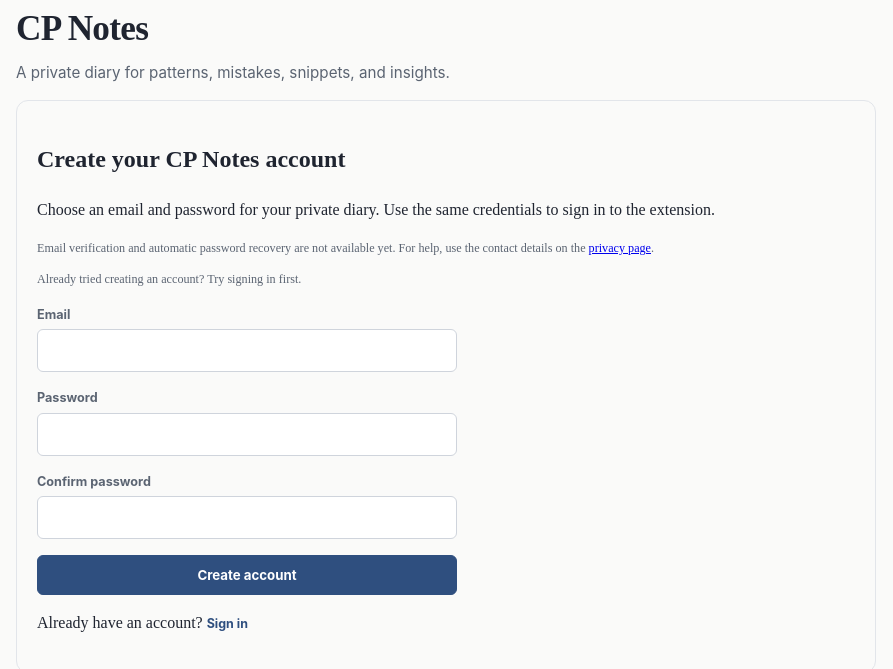
Test: keeps confirmed creation separate from a subsequent failed login
expect the password field labelled "Confirm password" is shown: met, box [37, 496, 457, 539]
In the field labelled "Email": (247, 351) [37, 329, 457, 372], type "tester@example.com"
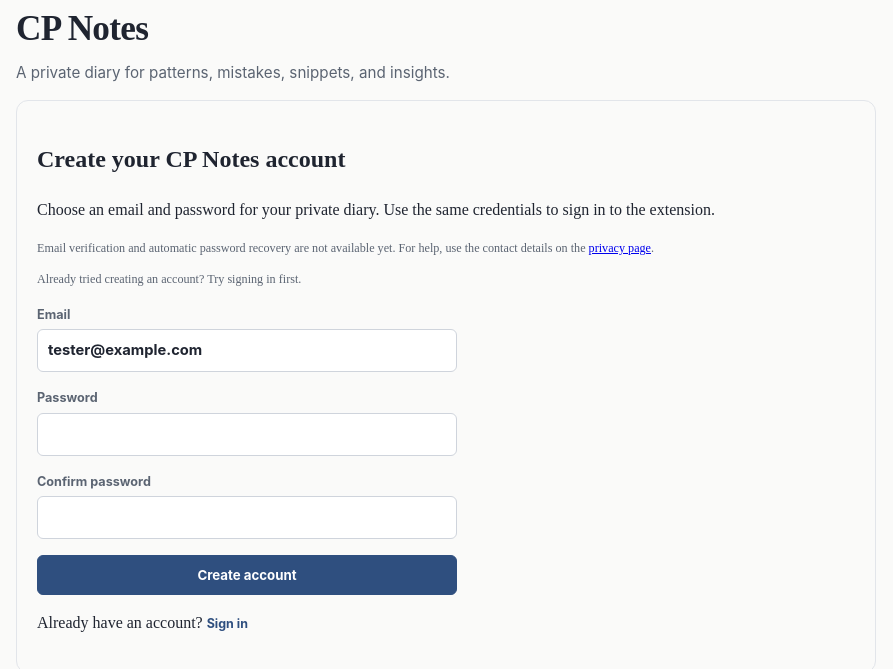
In the password field labelled "Password": (247, 434) [37, 413, 457, 456], type "a long password"
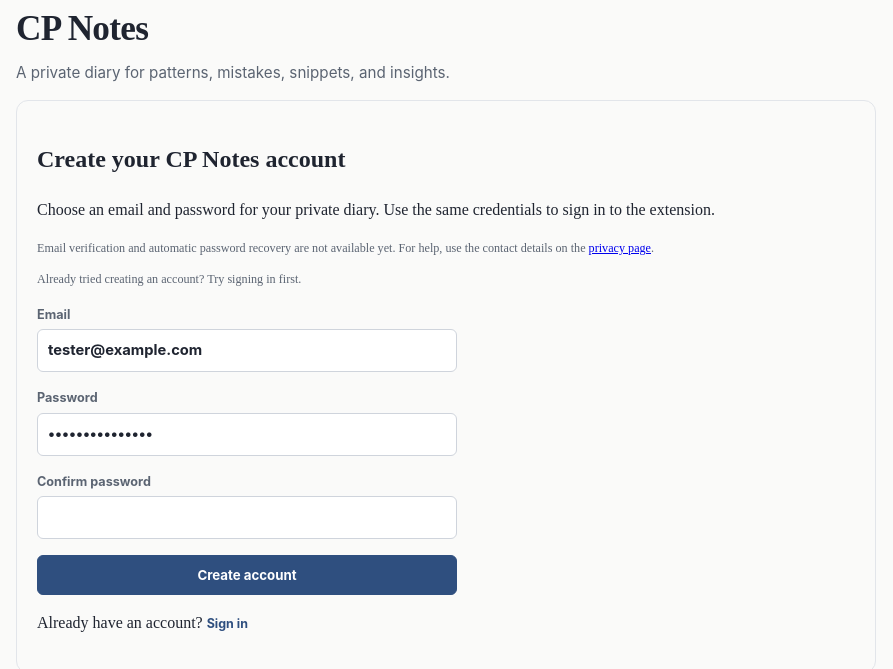
In the password field labelled "Confirm password": (247, 518) [37, 496, 457, 539], type "a long password"
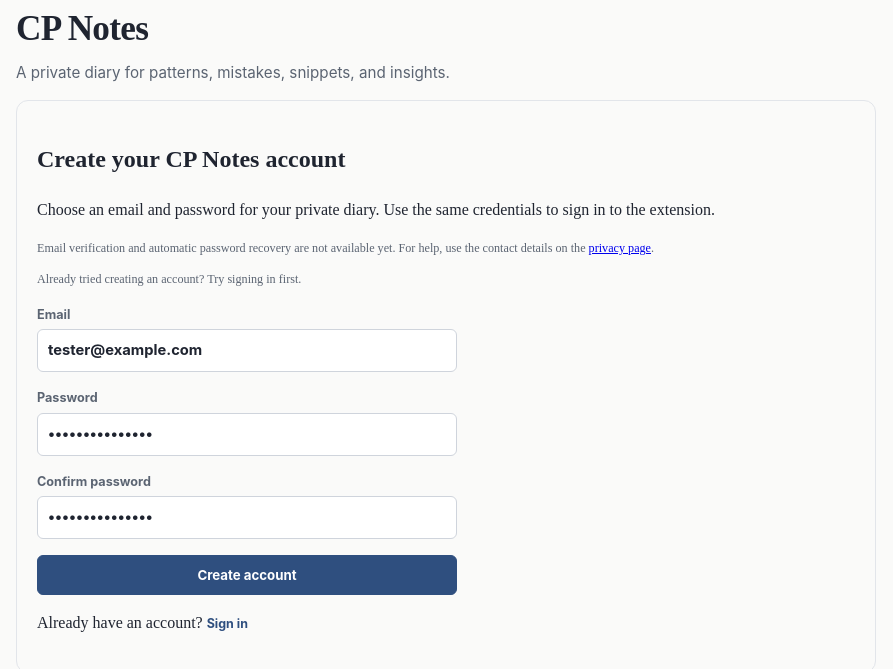
Submit the form "Create account", box [37, 305, 457, 596]
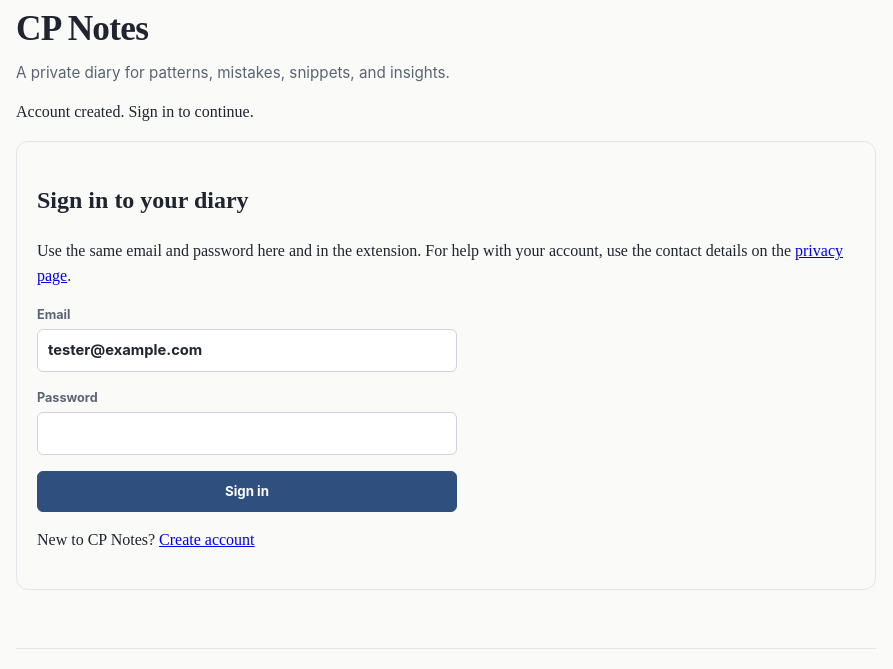
expect the button "Sign in" is shown: met, box [37, 471, 457, 512]
In the password field labelled "Password": (247, 434) [37, 412, 457, 455], type "a long password"
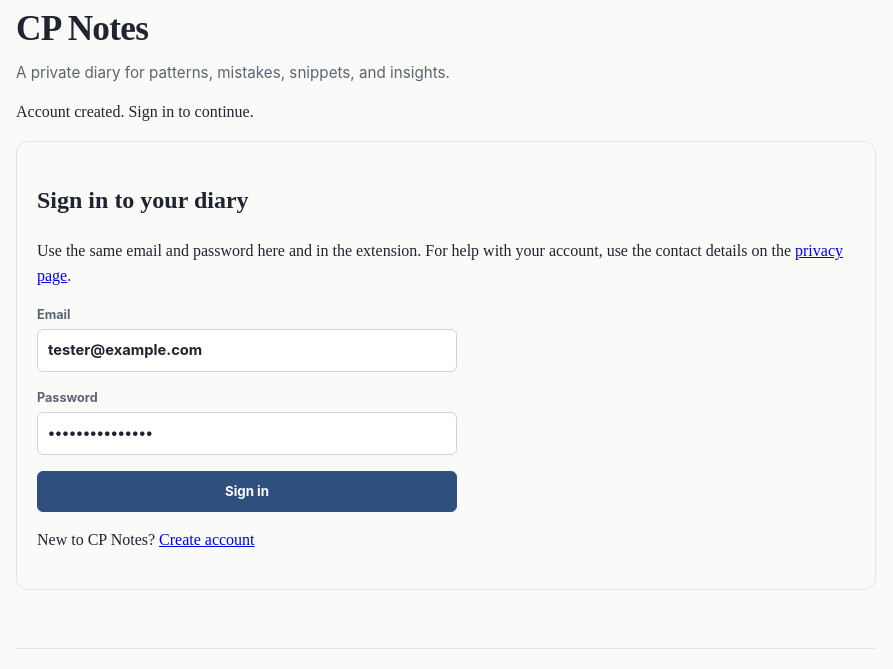
Submit the form "Sign in", box [37, 304, 457, 512]
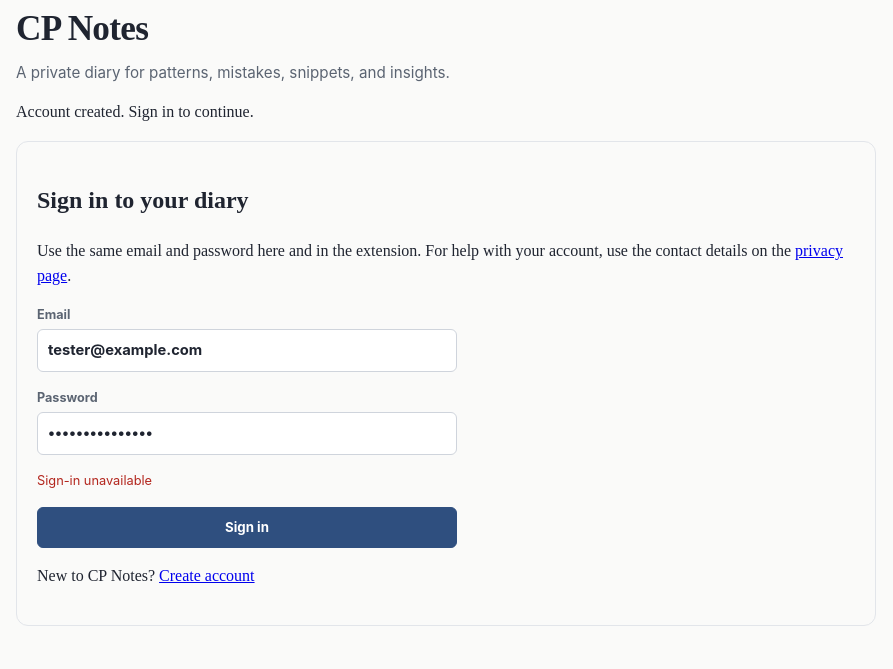
expect the message "Account created. Sign in to continue." is shown: met, box [16, 103, 254, 120]
expect the message "Sign-in unavailable" is shown: met, box [37, 473, 152, 488]
